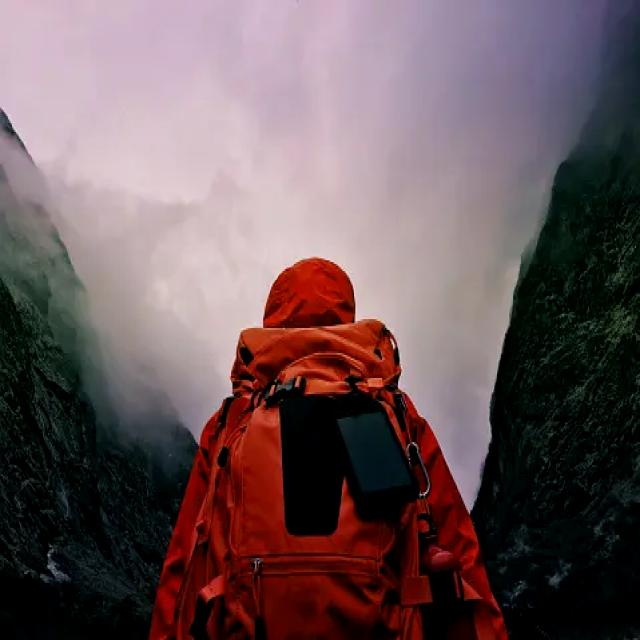backpack: (148, 256, 510, 640)
